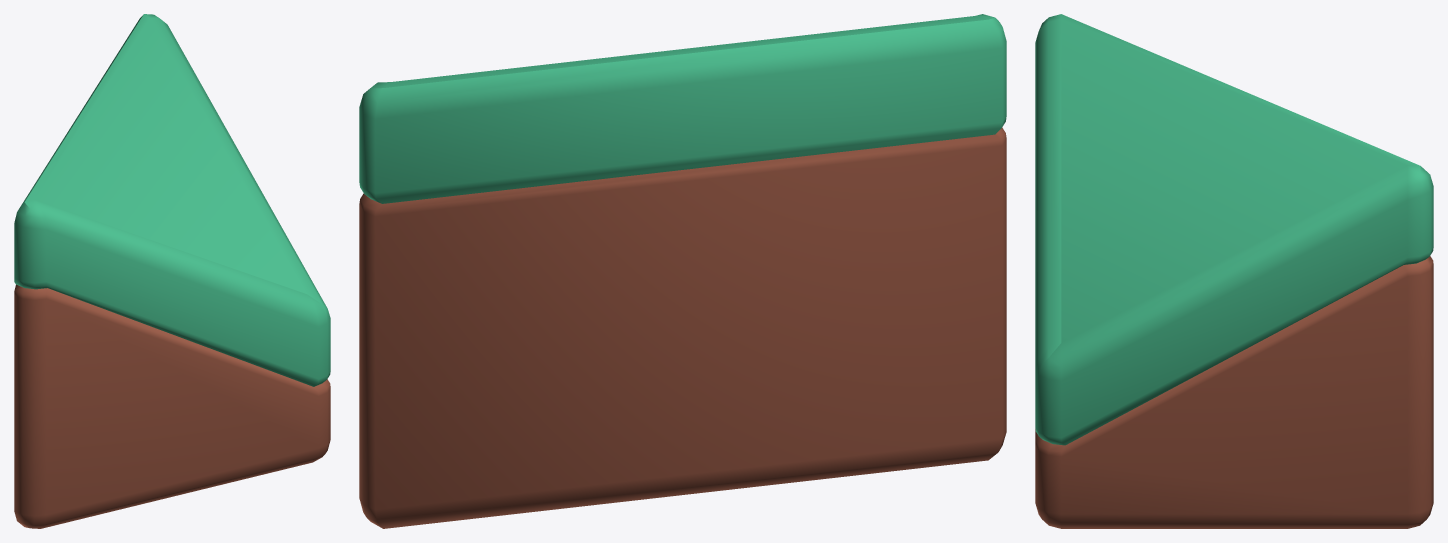
File: kaykit-tile-corner.fbx
3 renders of one model, left to right at view 1: azimuth 30°, elevation 25°; view 2: azimuth 150°, elevation 25°; view 3: azimuth 270°, elevation 25°, orthographic. The views are drawn at different scales.
Parts seen in each view (by area): view 1: tileSlopeLowHigh_forest; view 2: tileSlopeLowHigh_forest; view 3: tileSlopeLowHigh_forest.
Part boxes in pixels (x1,y1,x2,y2): tileSlopeLowHigh_forest: (14,14,330,528); tileSlopeLowHigh_forest: (359,14,1006,528); tileSlopeLowHigh_forest: (1035,14,1433,528).
Bounding box in the file's own units: 200 × 200 × 200.
